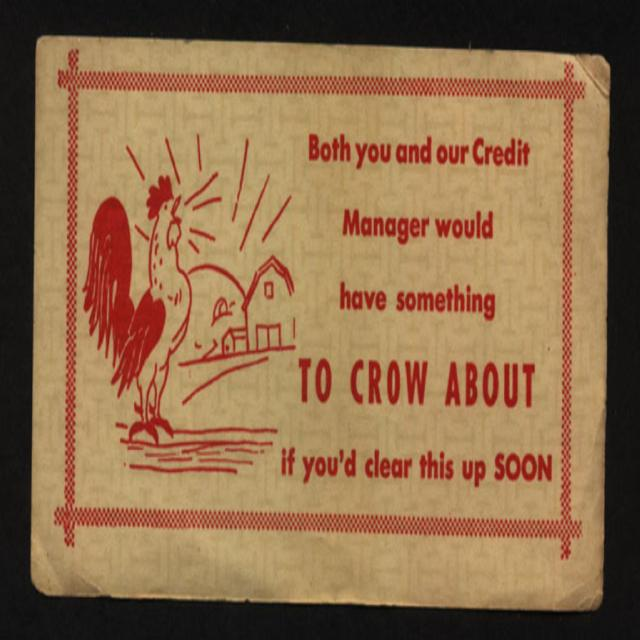Chicken: (84, 168, 191, 429)
